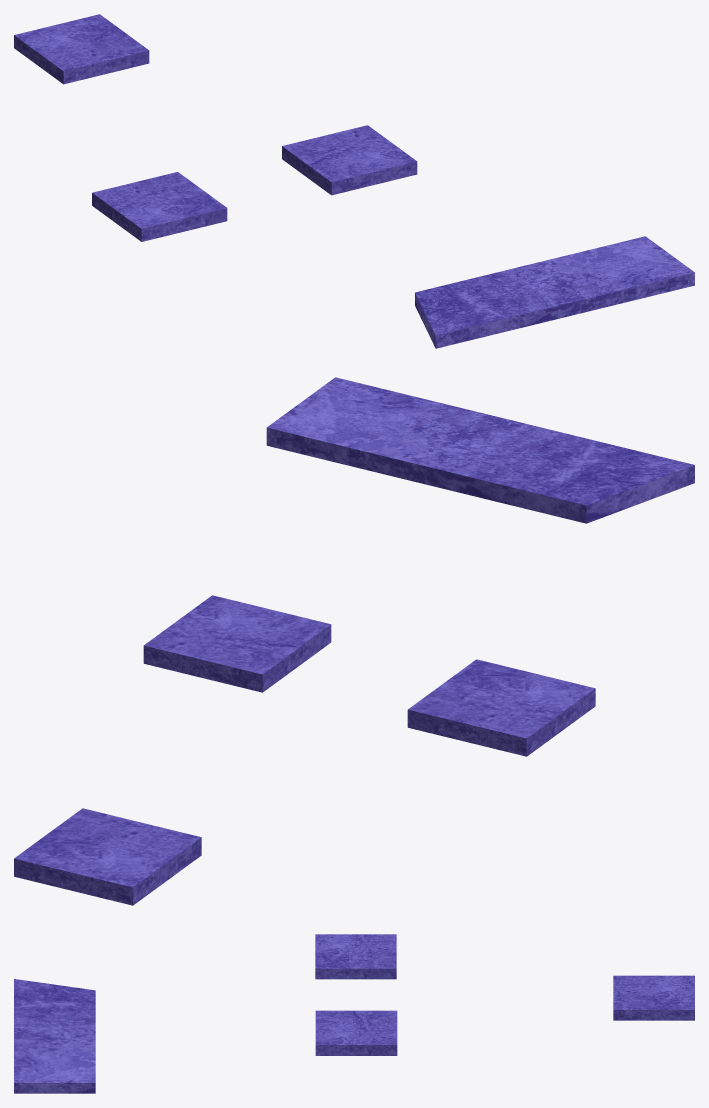
3 renders of one model, top to bottom at view 1: azimuth 30°, elevation 25°; view 2: azimuth 150°, elevation 25°; view 3: azimuth 270°, elevation 25°, orthographic. The views are drawn at different scales.
Visible parts, largest first — view 1: Plane.001_Plane.000; view 2: Plane.001_Plane.000; view 3: Plane.001_Plane.000.
Part boxes in pixels (box(x1,y1,x2,y2)): Plane.001_Plane.000: box(14, 14, 694, 348); Plane.001_Plane.000: box(14, 377, 694, 905); Plane.001_Plane.000: box(14, 934, 694, 1093).
Size of the model in its own units: 14.82 by 0.5 by 28.65.
